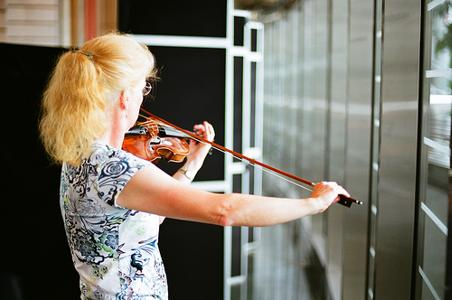person: (40, 34, 352, 300)
